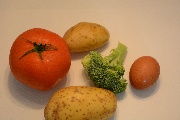broccoli: (82, 41, 128, 91)
egg: (129, 55, 160, 89)
potato: (45, 85, 117, 120), (61, 22, 110, 52)
tomato: (10, 28, 71, 91)
